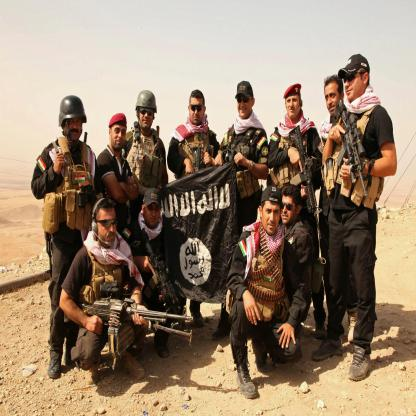rifle: (64, 283, 196, 358), (327, 99, 369, 203), (288, 124, 324, 242), (136, 236, 182, 325), (176, 137, 209, 177)
